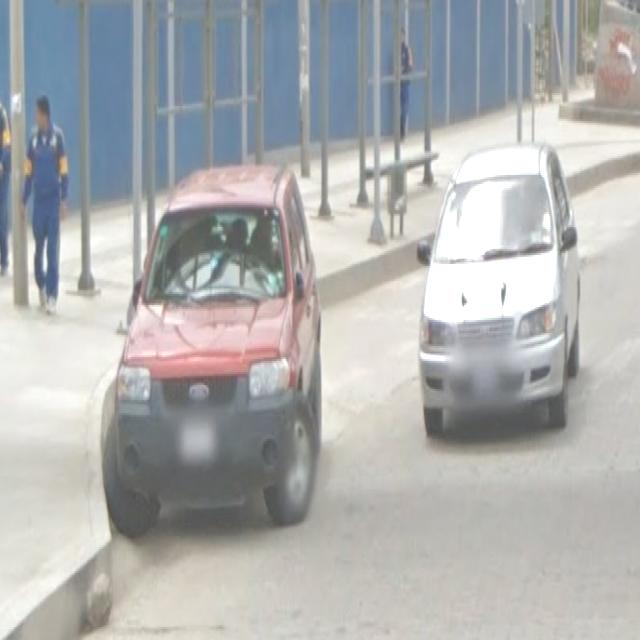car: (115, 164, 330, 538), (407, 139, 586, 444)
